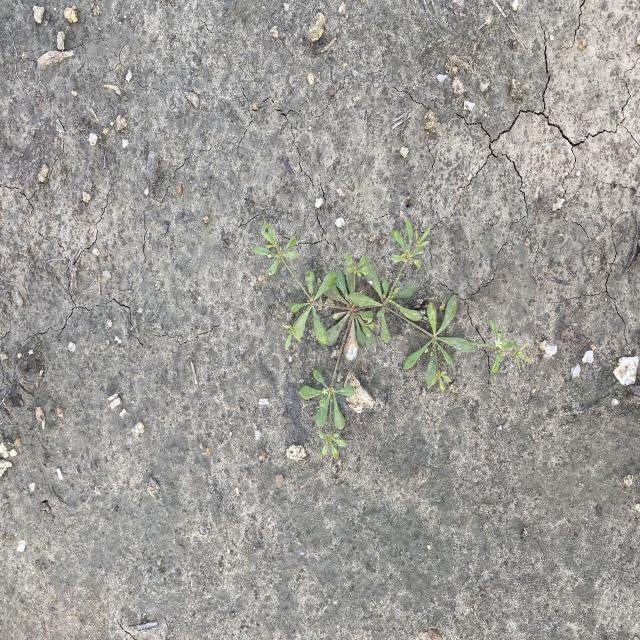Carpetweed: (251, 218, 535, 461)
